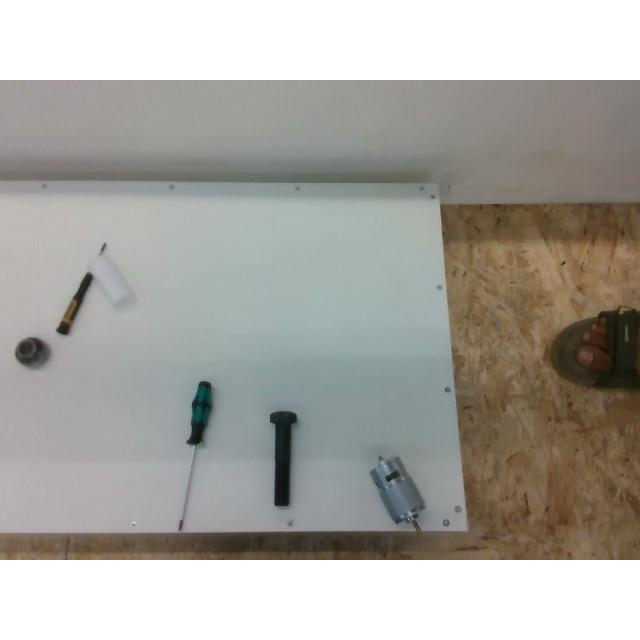Bearing2: (15, 337, 50, 368)
M20_100: (270, 411, 298, 505)
Motor2: (369, 456, 425, 532)
Screwdriver: (177, 381, 211, 531)
Spacer: (83, 250, 135, 310)
